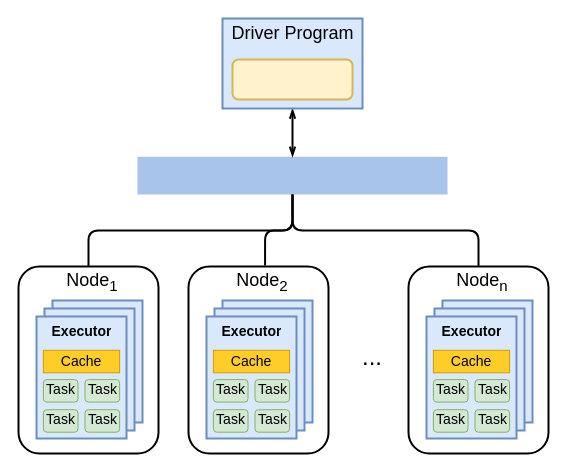
The diagram is 574 pixels wide and 471 high, and some of its shapes have lost their labels. The box of each missing label's shape, as (x1, y1, x2, y2) in pixels:
Cluster Manager: (137, 156, 447, 194)
SparkContext: (231, 58, 353, 100)
